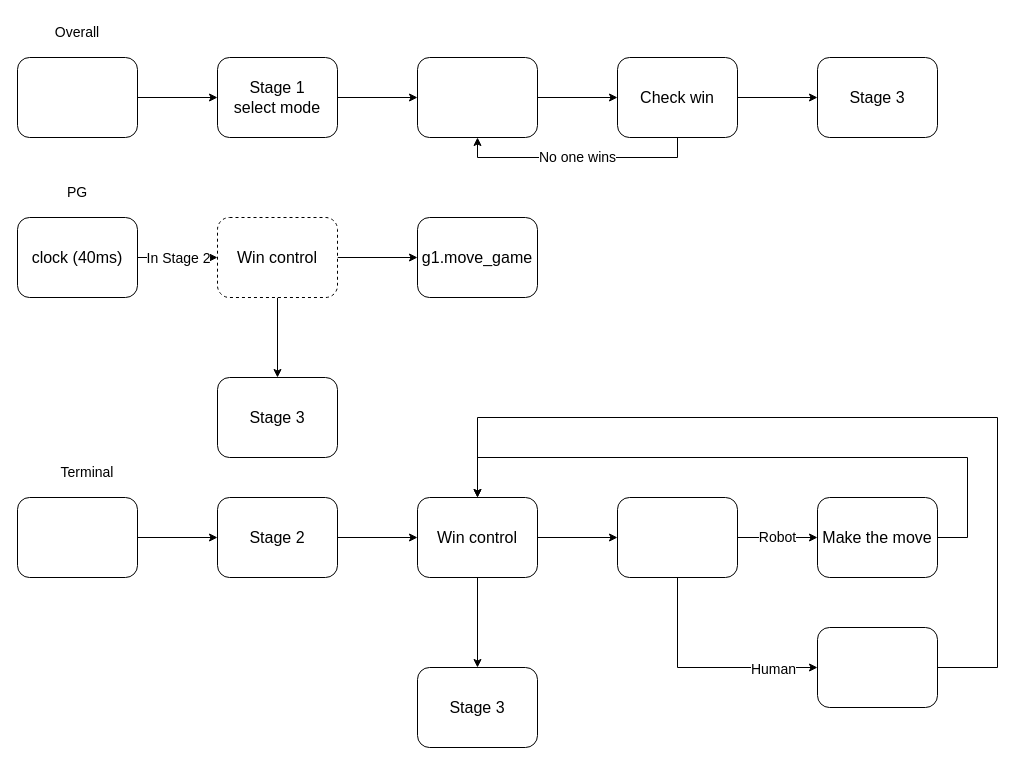
Image size: 1023x765. Some labels were removed from this diagram. The centre of each missing label's shape, as x and y in pixels:
"Init pg" belongs at point (77, 97).
"Stage 1" belongs at point (77, 537).
"Stage 2 play" belongs at point (477, 97).
"Wait for input" belongs at point (877, 667).
"Who's turn" belongs at point (677, 537).
